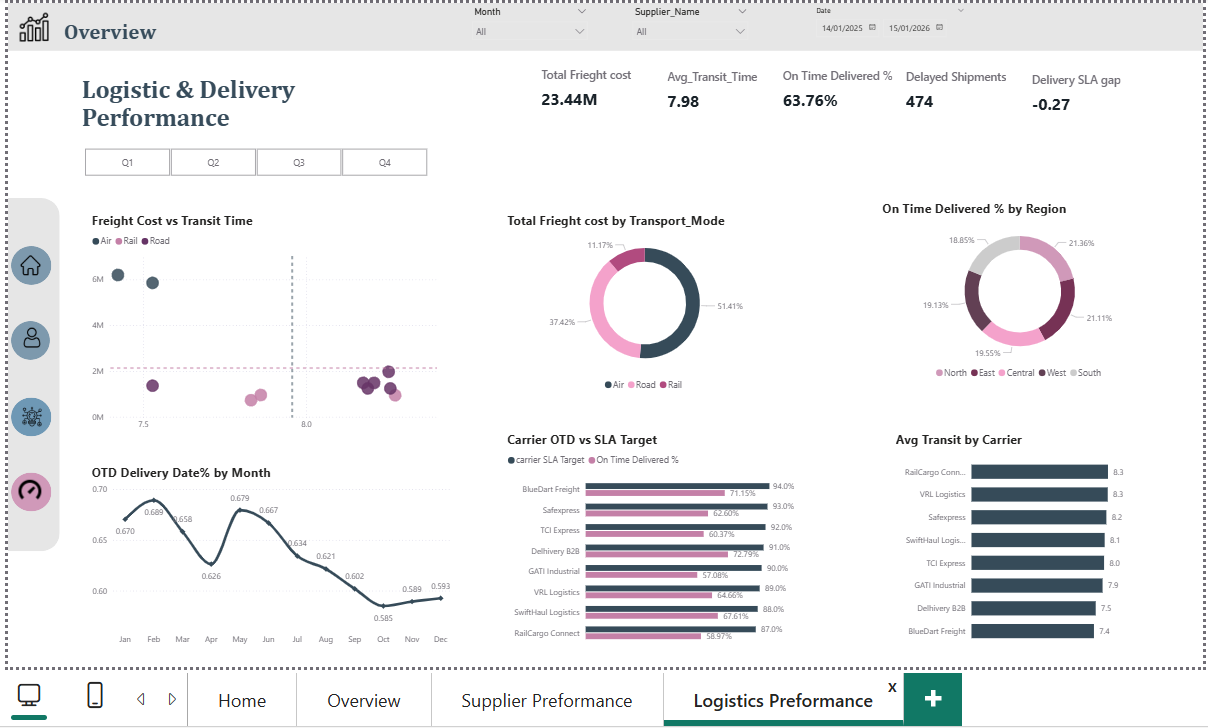

The page's visual inventory and layout, read from the dashboard file:
{"tool":"powerbi","page":{"name":"Logistics Preformance","canvas":[1800,1000],"ordinal":3},"visuals":[{"type":"shape","box":[0,0,1800.5,72.3],"z":0},{"type":"shape","box":[0,293,78,532],"z":1000},{"type":"textbox","box":[79.1,0,293.7,72.3],"z":2000},{"type":"image","box":[0,9,79.1,54.2],"z":3000},{"type":"textbox","box":[106.2,101.7,490.2,110.7],"z":4000},{"type":"shape","box":[4.5,366,61,58.7],"z":5000},{"type":"shape","box":[4.5,479.7,58.7,58.7],"z":6000},{"type":"shape","box":[4.5,593.4,61,58.7],"z":7000},{"type":"shape","box":[4.5,707.1,61,58.7],"z":8000},{"type":"image","box":[15.8,594.1,40,58],"z":9000},{"type":"cardVisual","fields":{"Data":["3rd Page Measures.Total Frieght cost"]},"box":[786.2,79.1,216.9,97.1],"z":10000},{"type":"cardVisual","fields":{"Data":["3rd Page Measures.Avg_Transit_Time"]},"box":[975.9,81.3,228.2,97.1],"z":11000},{"type":"cardVisual","fields":{"Data":["1st Measure page.On Time Delivered %"]},"box":[1149.9,79.1,221.4,99.4],"z":12000},{"type":"cardVisual","fields":{"Data":["1st Measure page.Delayed Shipments"]},"box":[1335.1,81.3,234.9,97.1],"z":13000},{"type":"cardVisual","fields":{"Data":["3rd Page Measures.Delivery SLA gap"]},"box":[1524.9,85.8,246.2,97.1],"z":14000},{"type":"image","box":[13.6,372.7,40.7,45.2],"z":15000},{"type":"image","box":[15.8,478.9,40.7,49.7],"z":16000},{"type":"image","box":[9,702.6,47.4,65.5],"z":17000},{"type":"slicer","fields":{"Values":["Dim_date.Month"]},"box":[689,0,194.3,72.3],"z":18000},{"type":"slicer","fields":{"Values":["dim_supplier.Supplier_Name"]},"box":[930.7,0,194.3,72.3],"z":19000},{"type":"slicer","fields":{"Values":["Dim_date.Date"]},"box":[1204.1,0,248.5,72.3],"z":20000},{"type":"slicer","fields":{"Values":["Dim_date.Quarter"]},"box":[90.4,212.4,564.8,54.2],"z":21000},{"type":"scatterChart","title":"Freight Cost vs Transit Time","fields":{"X":["3rd Page Measures.Avg_Transit_Time"],"Y":["3rd Page Measures.Total Frieght cost"],"Category":["dim_carrier.Carrier_Name"],"Series":["fact_procurement.Transport_Mode"]},"box":[106.2,293.7,567,359.2],"z":22000},{"type":"clusteredBarChart","title":"Carrier OTD vs SLA Target ","fields":{"Category":["dim_carrier.Carrier_Name"],"Y":["3rd Page Measures.carrier SLA Target","1st Measure page.On Time Delivered %"]},"box":[731.9,623.5,472.1,352.4],"z":23000},{"type":"donutChart","fields":{"Category":["fact_procurement.Transport_Mode"],"Y":["3rd Page Measures.Total Frieght cost"]},"box":[731.9,293.7,454.1,300.5],"z":24000},{"type":"clusteredBarChart","title":"Avg Transit by Carrier","fields":{"Category":["dim_carrier.Carrier_Name"],"Y":["3rd Page Measures.Avg_Transit_Time"]},"box":[1317,623.5,454.1,352.4],"z":25000},{"type":"donutChart","fields":{"Category":["dim_warehouse.Region"],"Y":["1st Measure page.On Time Delivered %"]},"box":[1296.7,275.6,454.1,300.5],"z":26000},{"type":"lineChart","fields":{"Category":["Dim_date.Month"],"Y":["3rd Page Measures.OTD Delivery Date%"]},"box":[106.2,673.2,582.8,302.7],"z":27000}]}

Visuals, with their boxes on the page's 1800x1000 design canvas (x1, y1, x2, y2). These are canvas units, not pixel positions in the 1208x728 screenshot, which may show the page scaled, cropped or inside an application window:
shape: locate(0, 0, 1800, 72)
shape: locate(0, 293, 78, 825)
textbox: locate(79, 0, 373, 72)
image: locate(0, 9, 79, 63)
textbox: locate(106, 102, 596, 212)
shape: locate(4, 366, 66, 425)
shape: locate(4, 480, 63, 538)
shape: locate(4, 593, 66, 652)
shape: locate(4, 707, 66, 766)
image: locate(16, 594, 56, 652)
cardVisual - 3rd Page Measures.Total Frieght cost: locate(786, 79, 1003, 176)
cardVisual - 3rd Page Measures.Avg_Transit_Time: locate(976, 81, 1204, 178)
cardVisual - 1st Measure page.On Time Delivered %: locate(1150, 79, 1371, 178)
cardVisual - 1st Measure page.Delayed Shipments: locate(1335, 81, 1570, 178)
cardVisual - 3rd Page Measures.Delivery SLA gap: locate(1525, 86, 1771, 183)
image: locate(14, 373, 54, 418)
image: locate(16, 479, 56, 529)
image: locate(9, 703, 56, 768)
slicer - Dim_date.Month: locate(689, 0, 883, 72)
slicer - dim_supplier.Supplier_Name: locate(931, 0, 1125, 72)
slicer - Dim_date.Date: locate(1204, 0, 1453, 72)
slicer - Dim_date.Quarter: locate(90, 212, 655, 267)
"Freight Cost vs Transit Time" scatterChart: locate(106, 294, 673, 653)
"Carrier OTD vs SLA Target " clusteredBarChart: locate(732, 624, 1204, 976)
donutChart - fact_procurement.Transport_Mode x 3rd Page Measures.Total Frieght cost: locate(732, 294, 1186, 594)
"Avg Transit by Carrier" clusteredBarChart: locate(1317, 624, 1771, 976)
donutChart - dim_warehouse.Region x 1st Measure page.On Time Delivered %: locate(1297, 276, 1751, 576)
lineChart - Dim_date.Month x 3rd Page Measures.OTD Delivery Date%: locate(106, 673, 689, 976)
